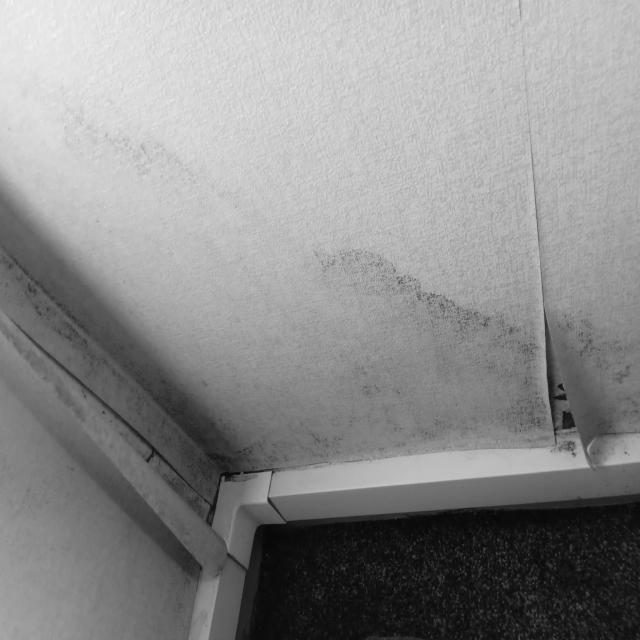stain marks: (273, 237, 640, 514), (0, 246, 234, 568), (27, 78, 264, 239), (147, 570, 222, 640), (235, 419, 273, 518)
